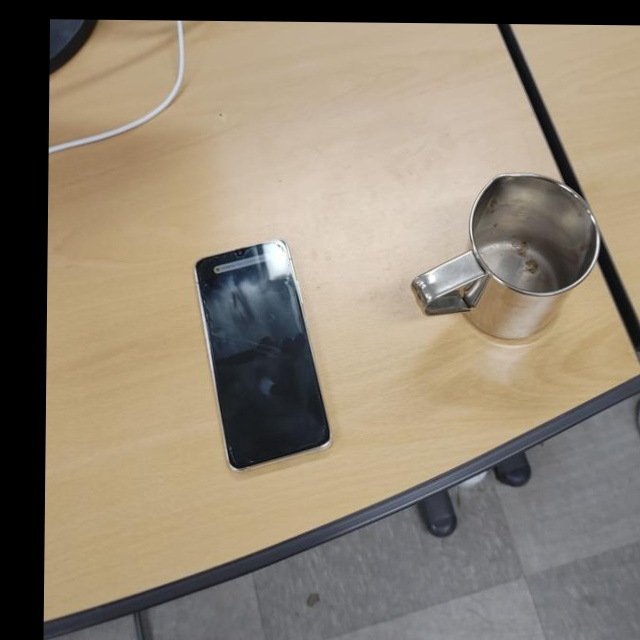cup: (410, 169, 599, 344)
phone: (191, 235, 338, 478)
